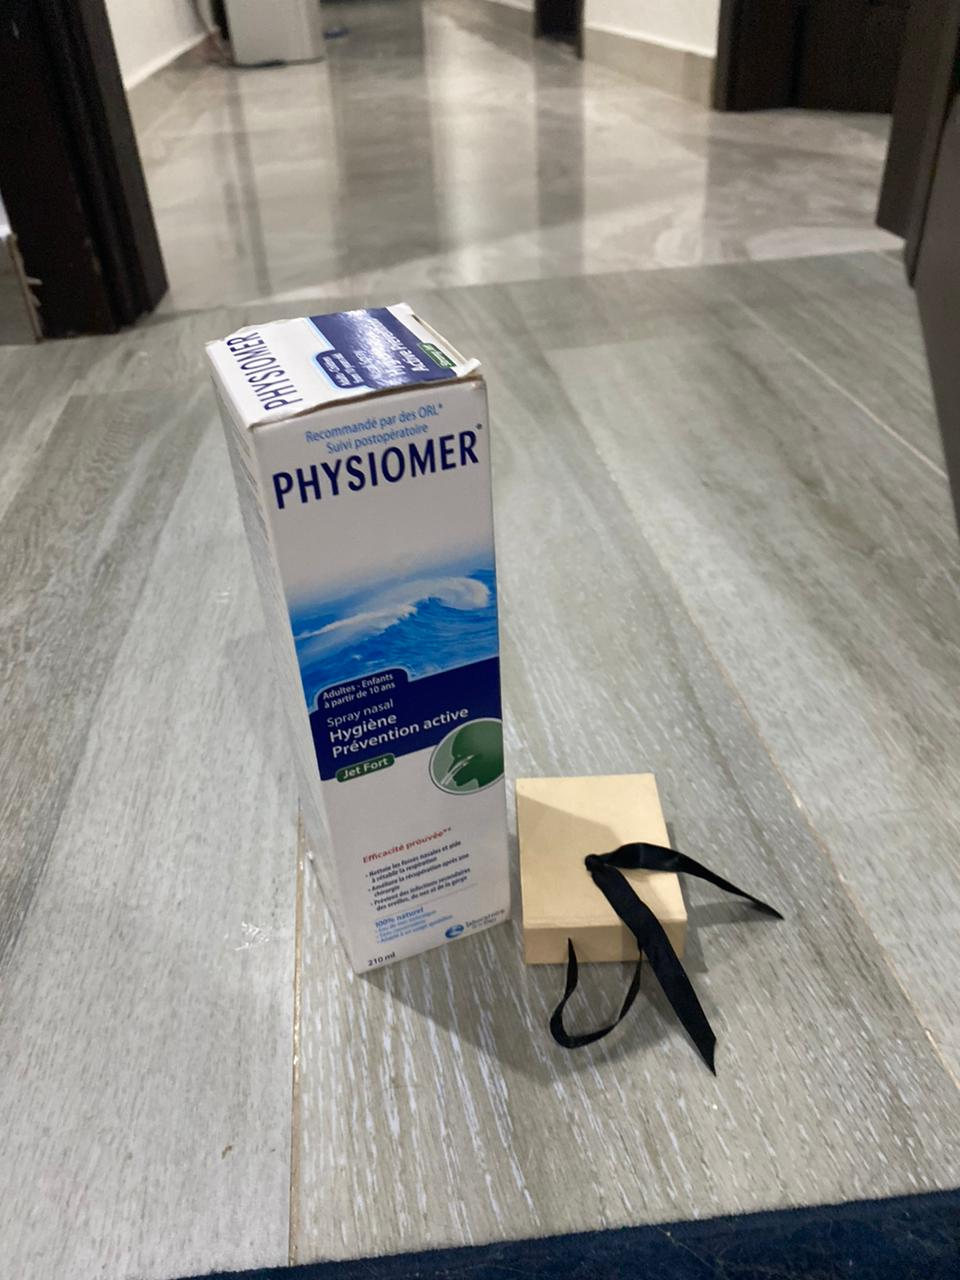Physiomer: (202, 293, 521, 981)
Yellow Box: (505, 760, 699, 976)
